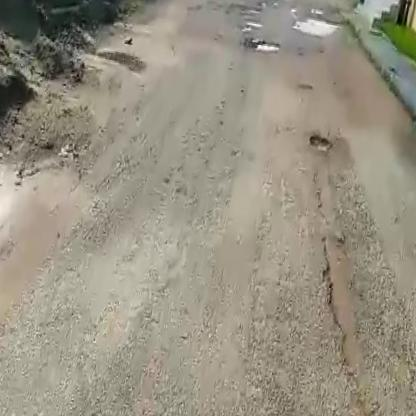pothole: (290, 12, 343, 42), (246, 34, 286, 56), (306, 133, 334, 155)
